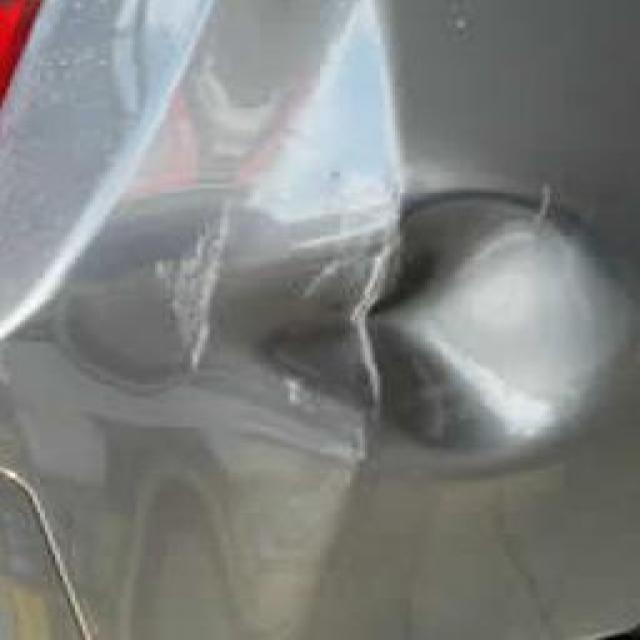dent: (158, 175, 622, 478)
